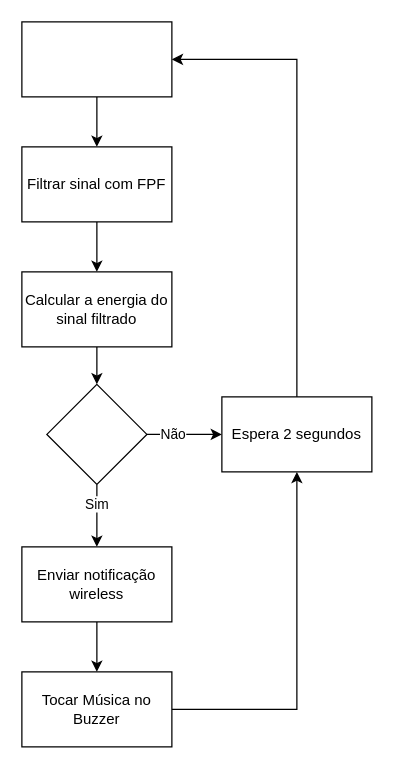
This 394x769 diagram has some shape labels left out. Each missing label, with the box of its shape:
>threshold: (46, 383, 147, 484)
Gravar áudio de 2 segundos: (21, 21, 172, 97)
